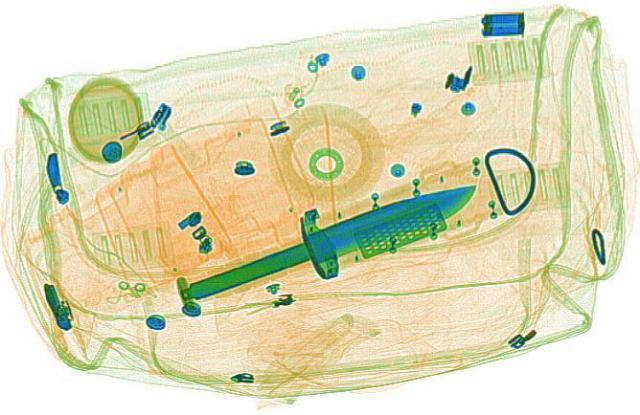Knife: (136, 154, 514, 331)
